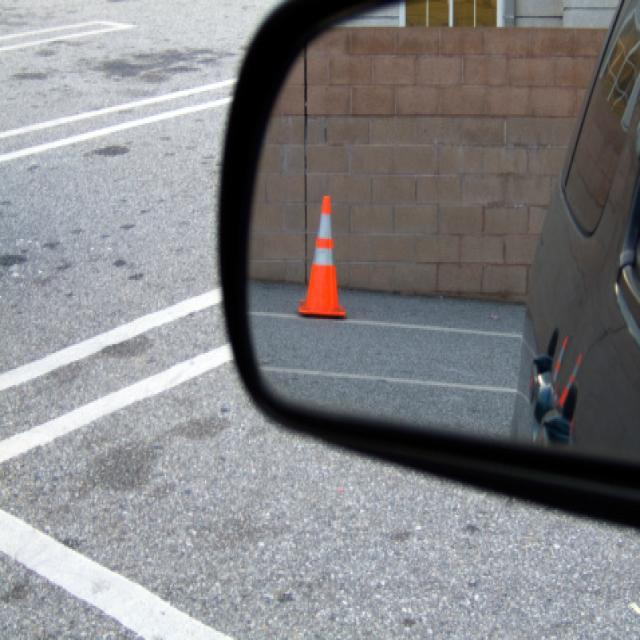traffic cone: (297, 195, 347, 319)
